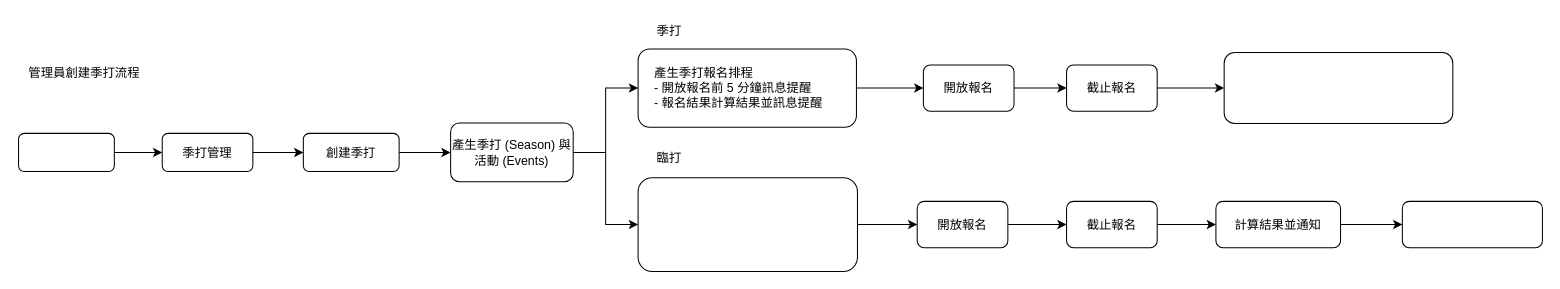
Image size: 1560x289. Some labels were removed from this diagram. Here are the shapes that lost their labels. From the top down, the centre of each, then its label:
At point 1338,88: "計算結果並通知 - 報名成功的用戶加入當季所有活動".
At point 66,151: "管理 後台".
At point 747,224: "產生活動報名排程 - 開放報名前 5 分鐘訊息提醒 - 報名結果計算結果並訊息提醒 - 活動開始前一天提醒".
At point 1471,224: "活動開始前一日通知".
